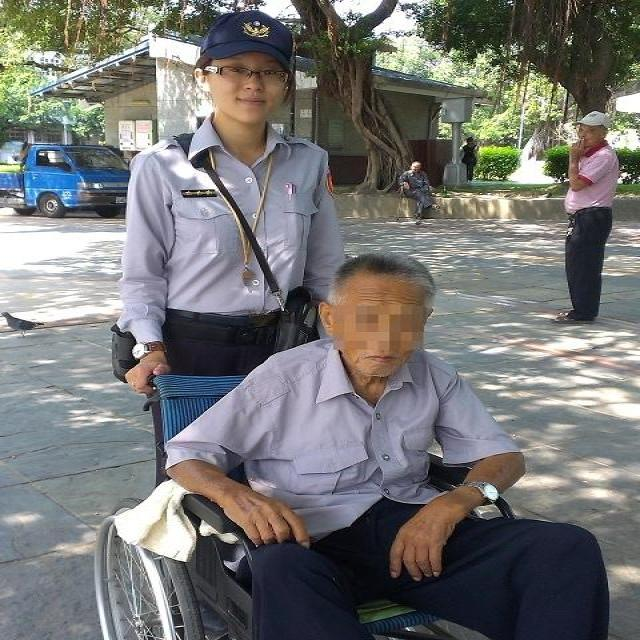wheelchairs: (59, 344, 562, 640)
